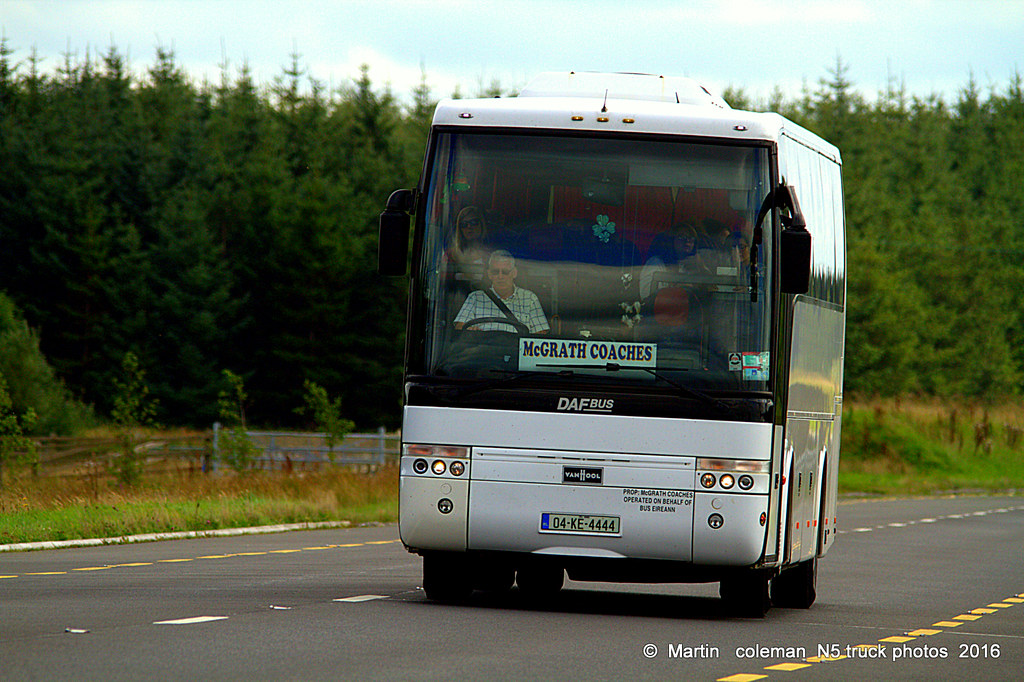bus: (360, 52, 882, 626)
